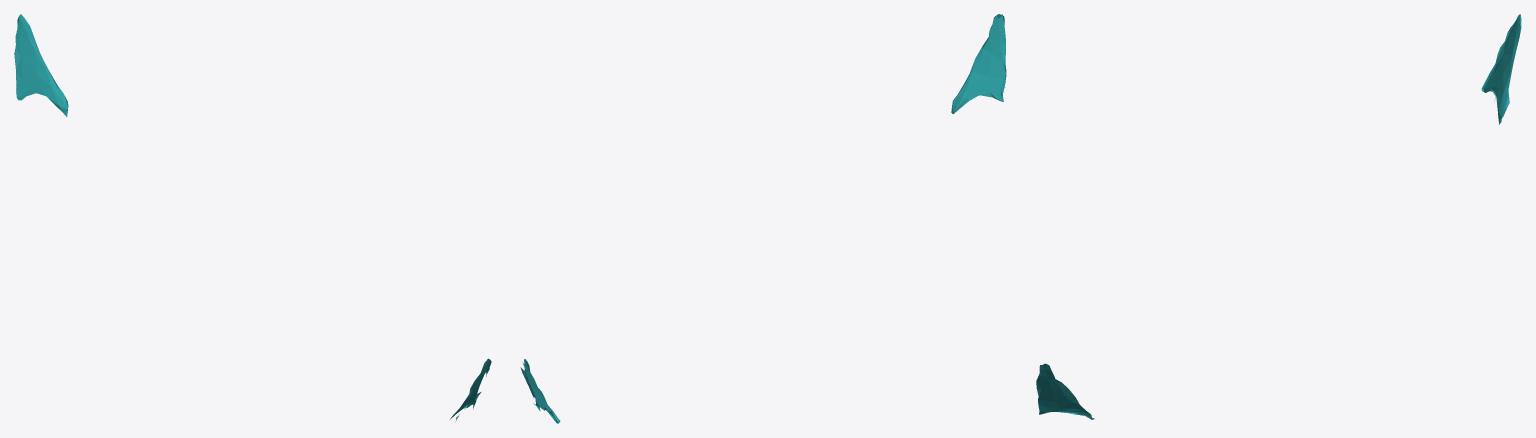
3 renders of one model, left to right at view 1: azimuth 30°, elevation 25°; view 2: azimuth 150°, elevation 25°; view 3: azimuth 330°, elevation 25°, orthographic. The views are drawn at different scales.
Visible parts, largest first — view 1: 312782652.obj; view 2: 312782652.obj; view 3: 312782652.obj.
Part boxes in pixels (left/top/right/bottom): 312782652.obj: left=14, top=14, right=491, bottom=421; 312782652.obj: left=520, top=14, right=1006, bottom=423; 312782652.obj: left=1036, top=14, right=1521, bottom=419.
Bounding box in the file's own units: 394 × 791 × 8171.
